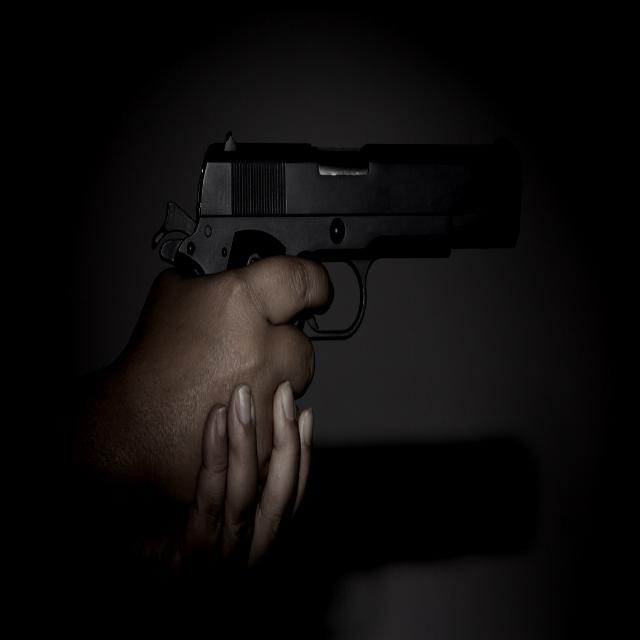pistol: (151, 127, 522, 361)
